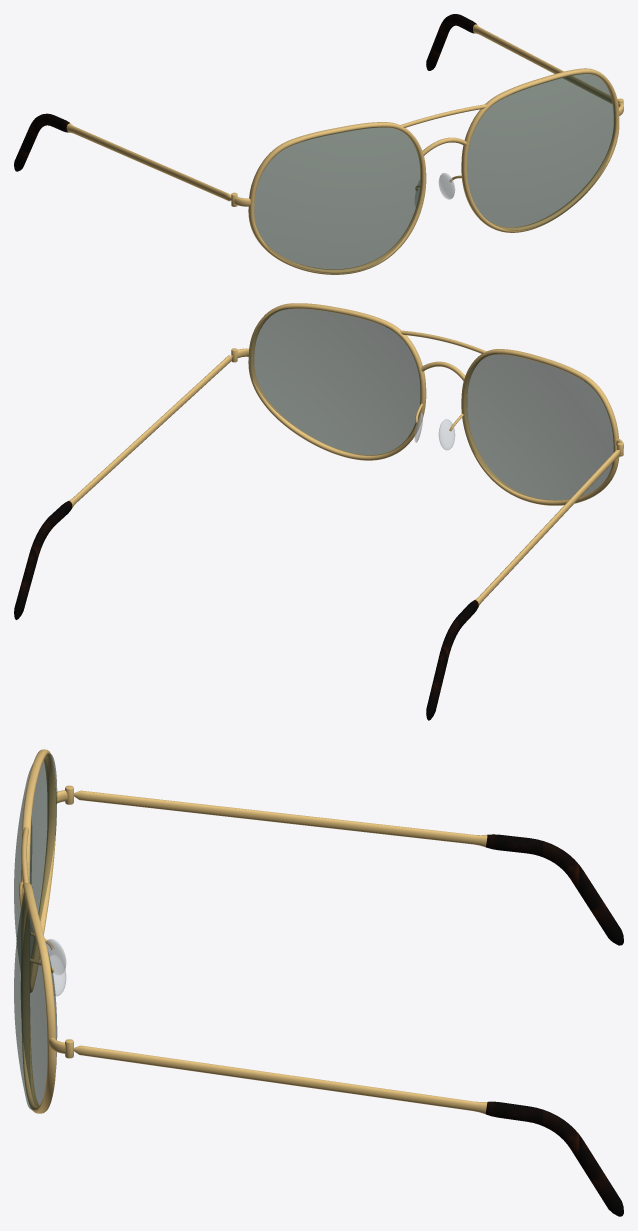
Rendered from sky-l.glb.
3 views of the same model, one above another, from view 1: azimuth 30°, elevation 25°; view 2: azimuth 150°, elevation 25°; view 3: azimuth 270°, elevation 25° (orthographic). The views are drawn at different scales.
Visible parts, largest first — view 1: Lens_R, Lens_L, Front, Temple_R, Temple_L, NosePads; view 2: Lens_L, Lens_R, Front, Temple_L, Temple_R, NosePads; view 3: Front, Temple_L, Temple_R, Lens_L, Lens_R, NosePads.
Boxes of the visible parts, <box> form: Lens_R: <box>254,127,421,273</box>; Lens_L: <box>467,74,615,230</box>; Front: <box>231,68,623,274</box>; Temple_R: <box>14,113,231,201</box>; Temple_L: <box>426,14,612,103</box>; NosePads: <box>415,173,455,206</box>; Lens_L: <box>250,308,420,455</box>; Lens_R: <box>462,353,614,500</box>; Front: <box>231,303,623,505</box>; Temple_L: <box>14,355,232,619</box>; Temple_R: <box>426,450,620,720</box>; NosePads: <box>414,413,455,450</box>; Front: <box>18,749,73,1113</box>; Temple_L: <box>73,1045,623,1216</box>; Temple_R: <box>74,790,623,945</box>; Lens_L: <box>14,887,57,1109</box>; Lens_R: <box>14,753,57,969</box>; NosePads: <box>46,939,66,996</box>.
Bounding box in the file's own units: 0.155 × 0.0626 × 0.1448.
6 materials, 1 textured.
